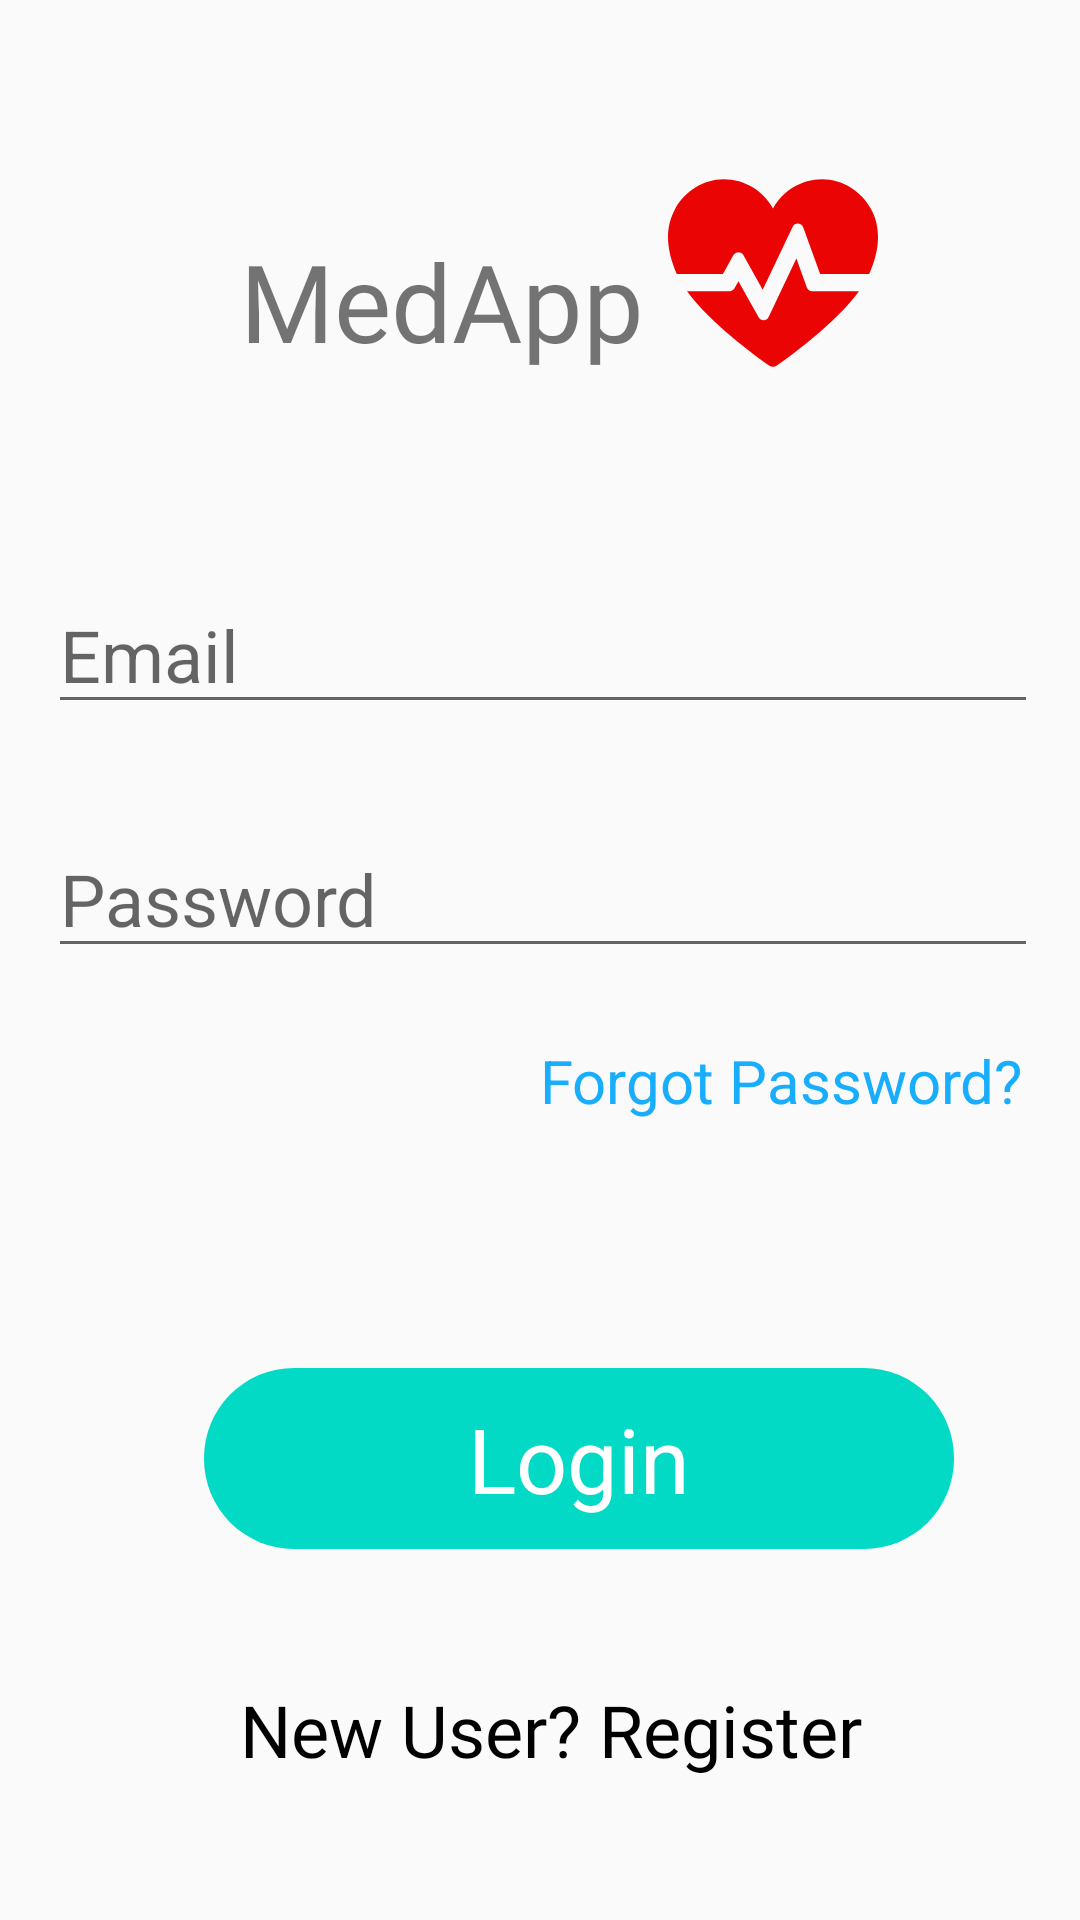

Point at icon controls on the screen. Image size 1080px×1920px, points as (x=x, y=y).
heart with electrocardiogram: (x=773, y=273)
